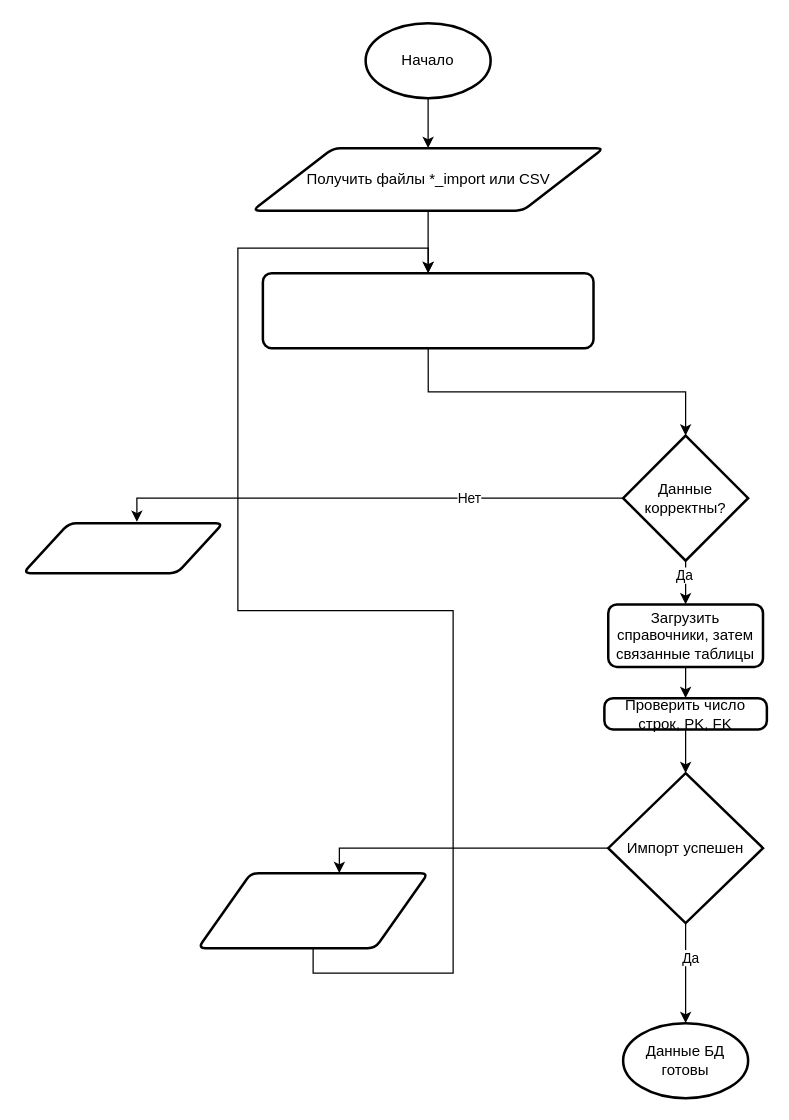
This 789x1120 diagram has some shape labels left out. Here are the shapes that lost their labels. From the top down, the centre of each, then its label:
At pixel 427 310: "Проверить кодировку, поля и связи".
At pixel 122 547: "Зафиксировать ошибки и исправить файл".
At pixel 312 910: "Сохранить лог ошибки".
